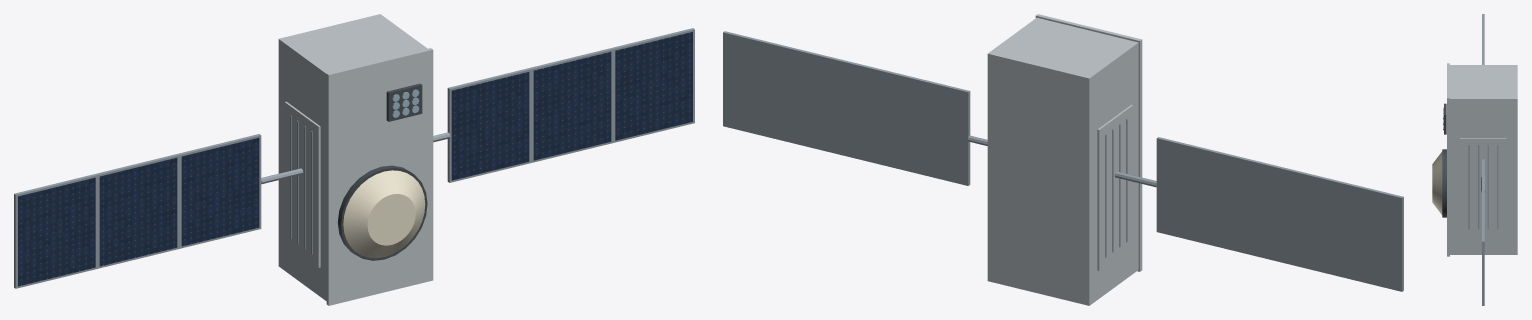
Rendered from glonass-k2.glb.
3 renders of one model, left to right at view 1: azimuth 30°, elevation 25°; view 2: azimuth 150°, elevation 25°; view 3: azimuth 270°, elevation 25°, orthographic. The views are drawn at different scales.
Parts seen in each view (by area): view 1: Photovoltaic laminates (×6), Payload deck, Equipment bus, Array frame (×6), Navigation antenna cover, Radiator, Navigation antenna base, Retroreflector panel; view 2: Array frame (×6), Equipment bus, Radiator, Payload deck; view 3: Equipment bus, Radiator, Radiator channel (×4), Payload deck, Navigation antenna cover, Array frame (×4), Navigation antenna base, Retroreflector panel.
Part boxes in pixels (bbox=[...]): Photovoltaic laminates (×6): bbox=[18, 32, 692, 286]; Payload deck: bbox=[326, 48, 433, 305]; Equipment bus: bbox=[278, 14, 427, 300]; Array frame (×6): bbox=[14, 28, 694, 288]; Navigation antenna cover: bbox=[343, 170, 425, 258]; Radiator: bbox=[284, 101, 320, 267]; Navigation antenna base: bbox=[337, 165, 427, 260]; Retroreflector panel: bbox=[386, 83, 422, 121]; Array frame (×6): bbox=[723, 31, 1403, 291]; Equipment bus: bbox=[987, 18, 1138, 305]; Radiator: bbox=[1097, 104, 1133, 270]; Payload deck: bbox=[1035, 14, 1142, 271]; Equipment bus: bbox=[1450, 65, 1517, 254]; Radiator: bbox=[1460, 138, 1506, 235]; Radiator channel (×4): bbox=[1468, 145, 1498, 229]; Payload deck: bbox=[1447, 63, 1449, 256]; Navigation antenna cover: bbox=[1432, 151, 1442, 215]; Array frame (×4): bbox=[1482, 14, 1484, 305]; Navigation antenna base: bbox=[1442, 149, 1446, 217]; Retroreflector panel: bbox=[1444, 103, 1446, 134].
Size of the model in its own units: 10 by 3.25 by 1.59.
6 materials, 1 textured.
